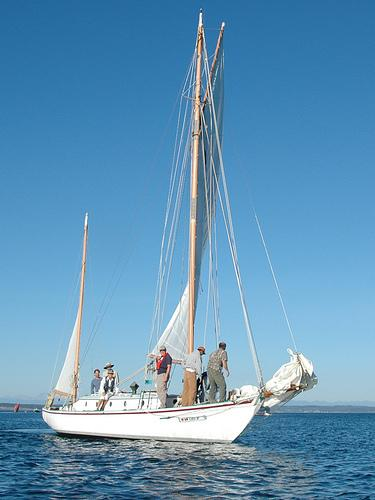Ship: (35, 3, 321, 446)
